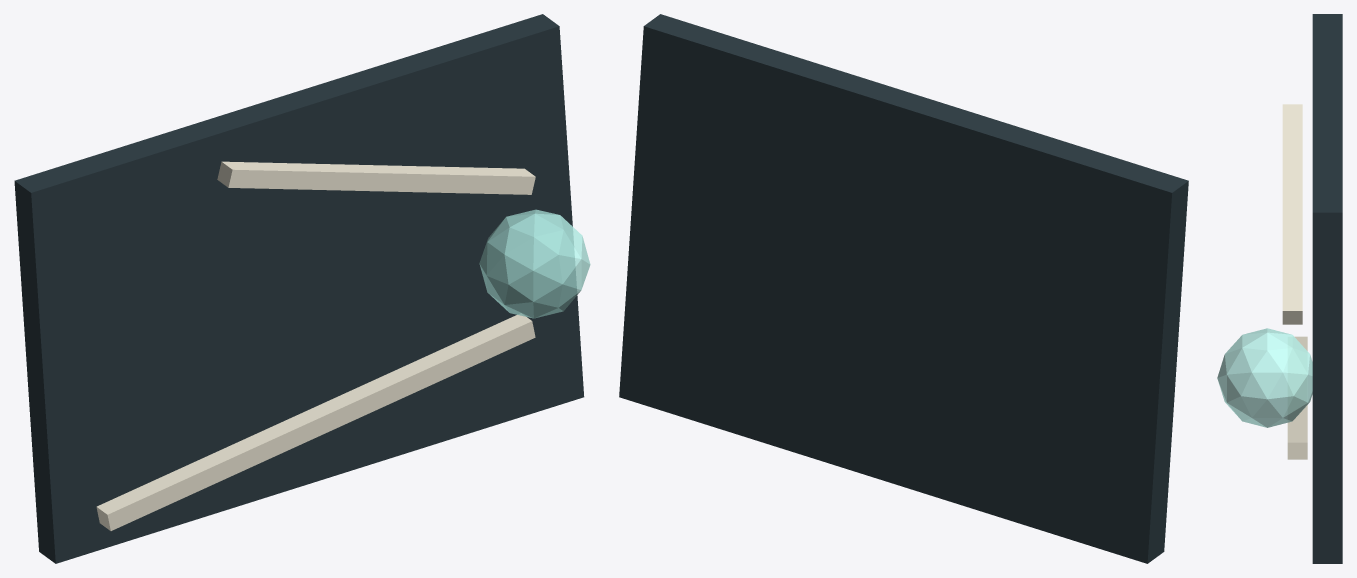
File: 02_world_prop_polish.glb
The picture shows the model from 3 angles, left to right: view 1: azimuth 30°, elevation 25°; view 2: azimuth 150°, elevation 25°; view 3: azimuth 270°, elevation 25°; orthographic projection. The views are drawn at different scales.
Visible parts, largest first — view 1: object_overlay_plate, edge_wear_a, glow_socket, edge_wear_b; view 2: object_overlay_plate; view 3: object_overlay_plate, glow_socket, edge_wear_b, edge_wear_a.
Boxes of the visible parts, left/top/right/bottom form: object_overlay_plate: left=14, top=14, right=584, bottom=563; edge_wear_a: left=96, top=314, right=535, bottom=530; glow_socket: left=479, top=209, right=590, bottom=318; edge_wear_b: left=217, top=161, right=535, bottom=194; object_overlay_plate: left=619, top=14, right=1188, bottom=563; object_overlay_plate: left=1312, top=14, right=1342, bottom=563; glow_socket: left=1217, top=328, right=1312, bottom=427; edge_wear_b: left=1282, top=104, right=1302, bottom=324; edge_wear_a: left=1287, top=336, right=1307, bottom=459.
Bounding box in the file's own units: 1.15 × 0.8233 × 0.25.
